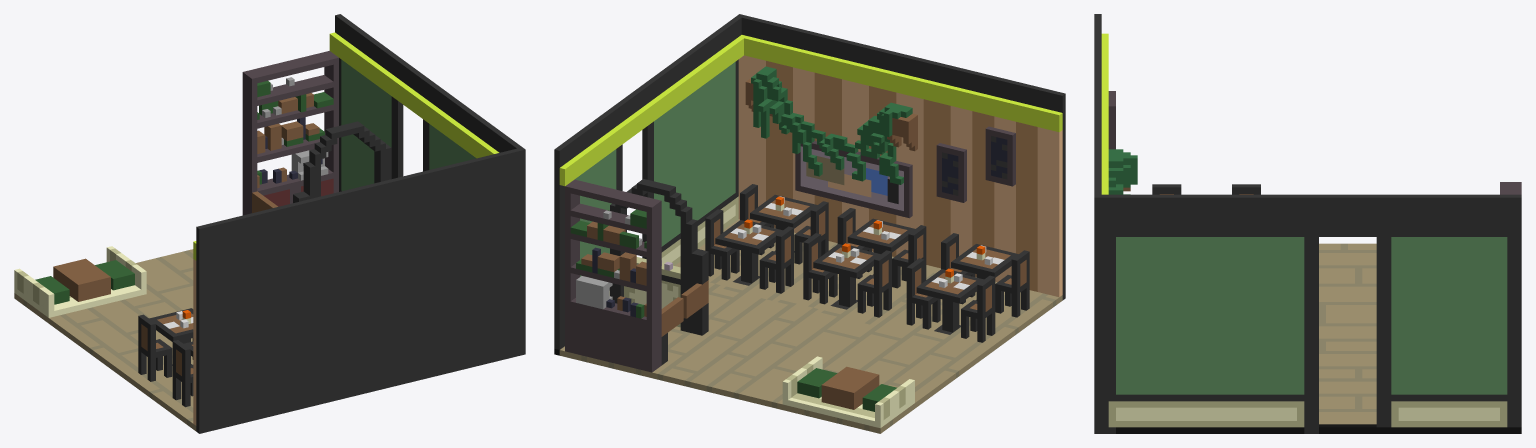
File: cafe_inside_fixed.obj
3 renders of one model, left to right at view 1: azimuth 30°, elevation 25°; view 2: azimuth 150°, elevation 25°; view 3: azimuth 270°, elevation 25°, orthographic. The views are drawn at different scales.
Bounding box in the file's own units: 6 × 3.6 × 5.9.
Materials: 1 (1 with a texture image).
